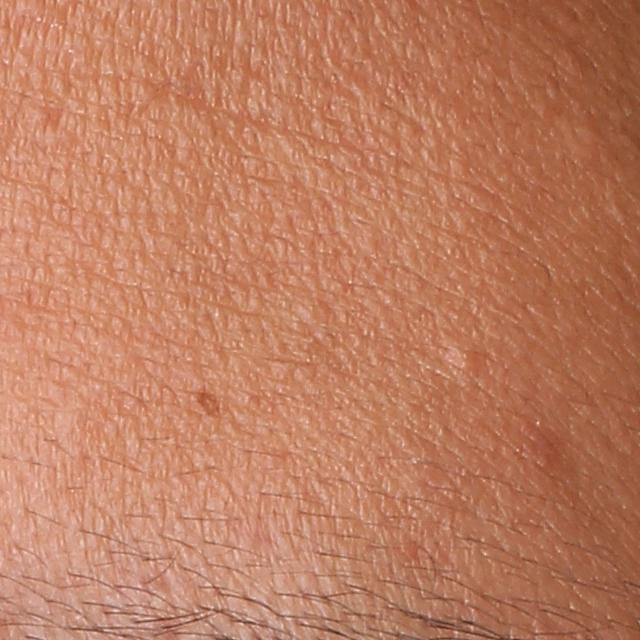comedo: (444, 343, 483, 384), (26, 104, 56, 130)
nevus: (187, 381, 228, 422)
